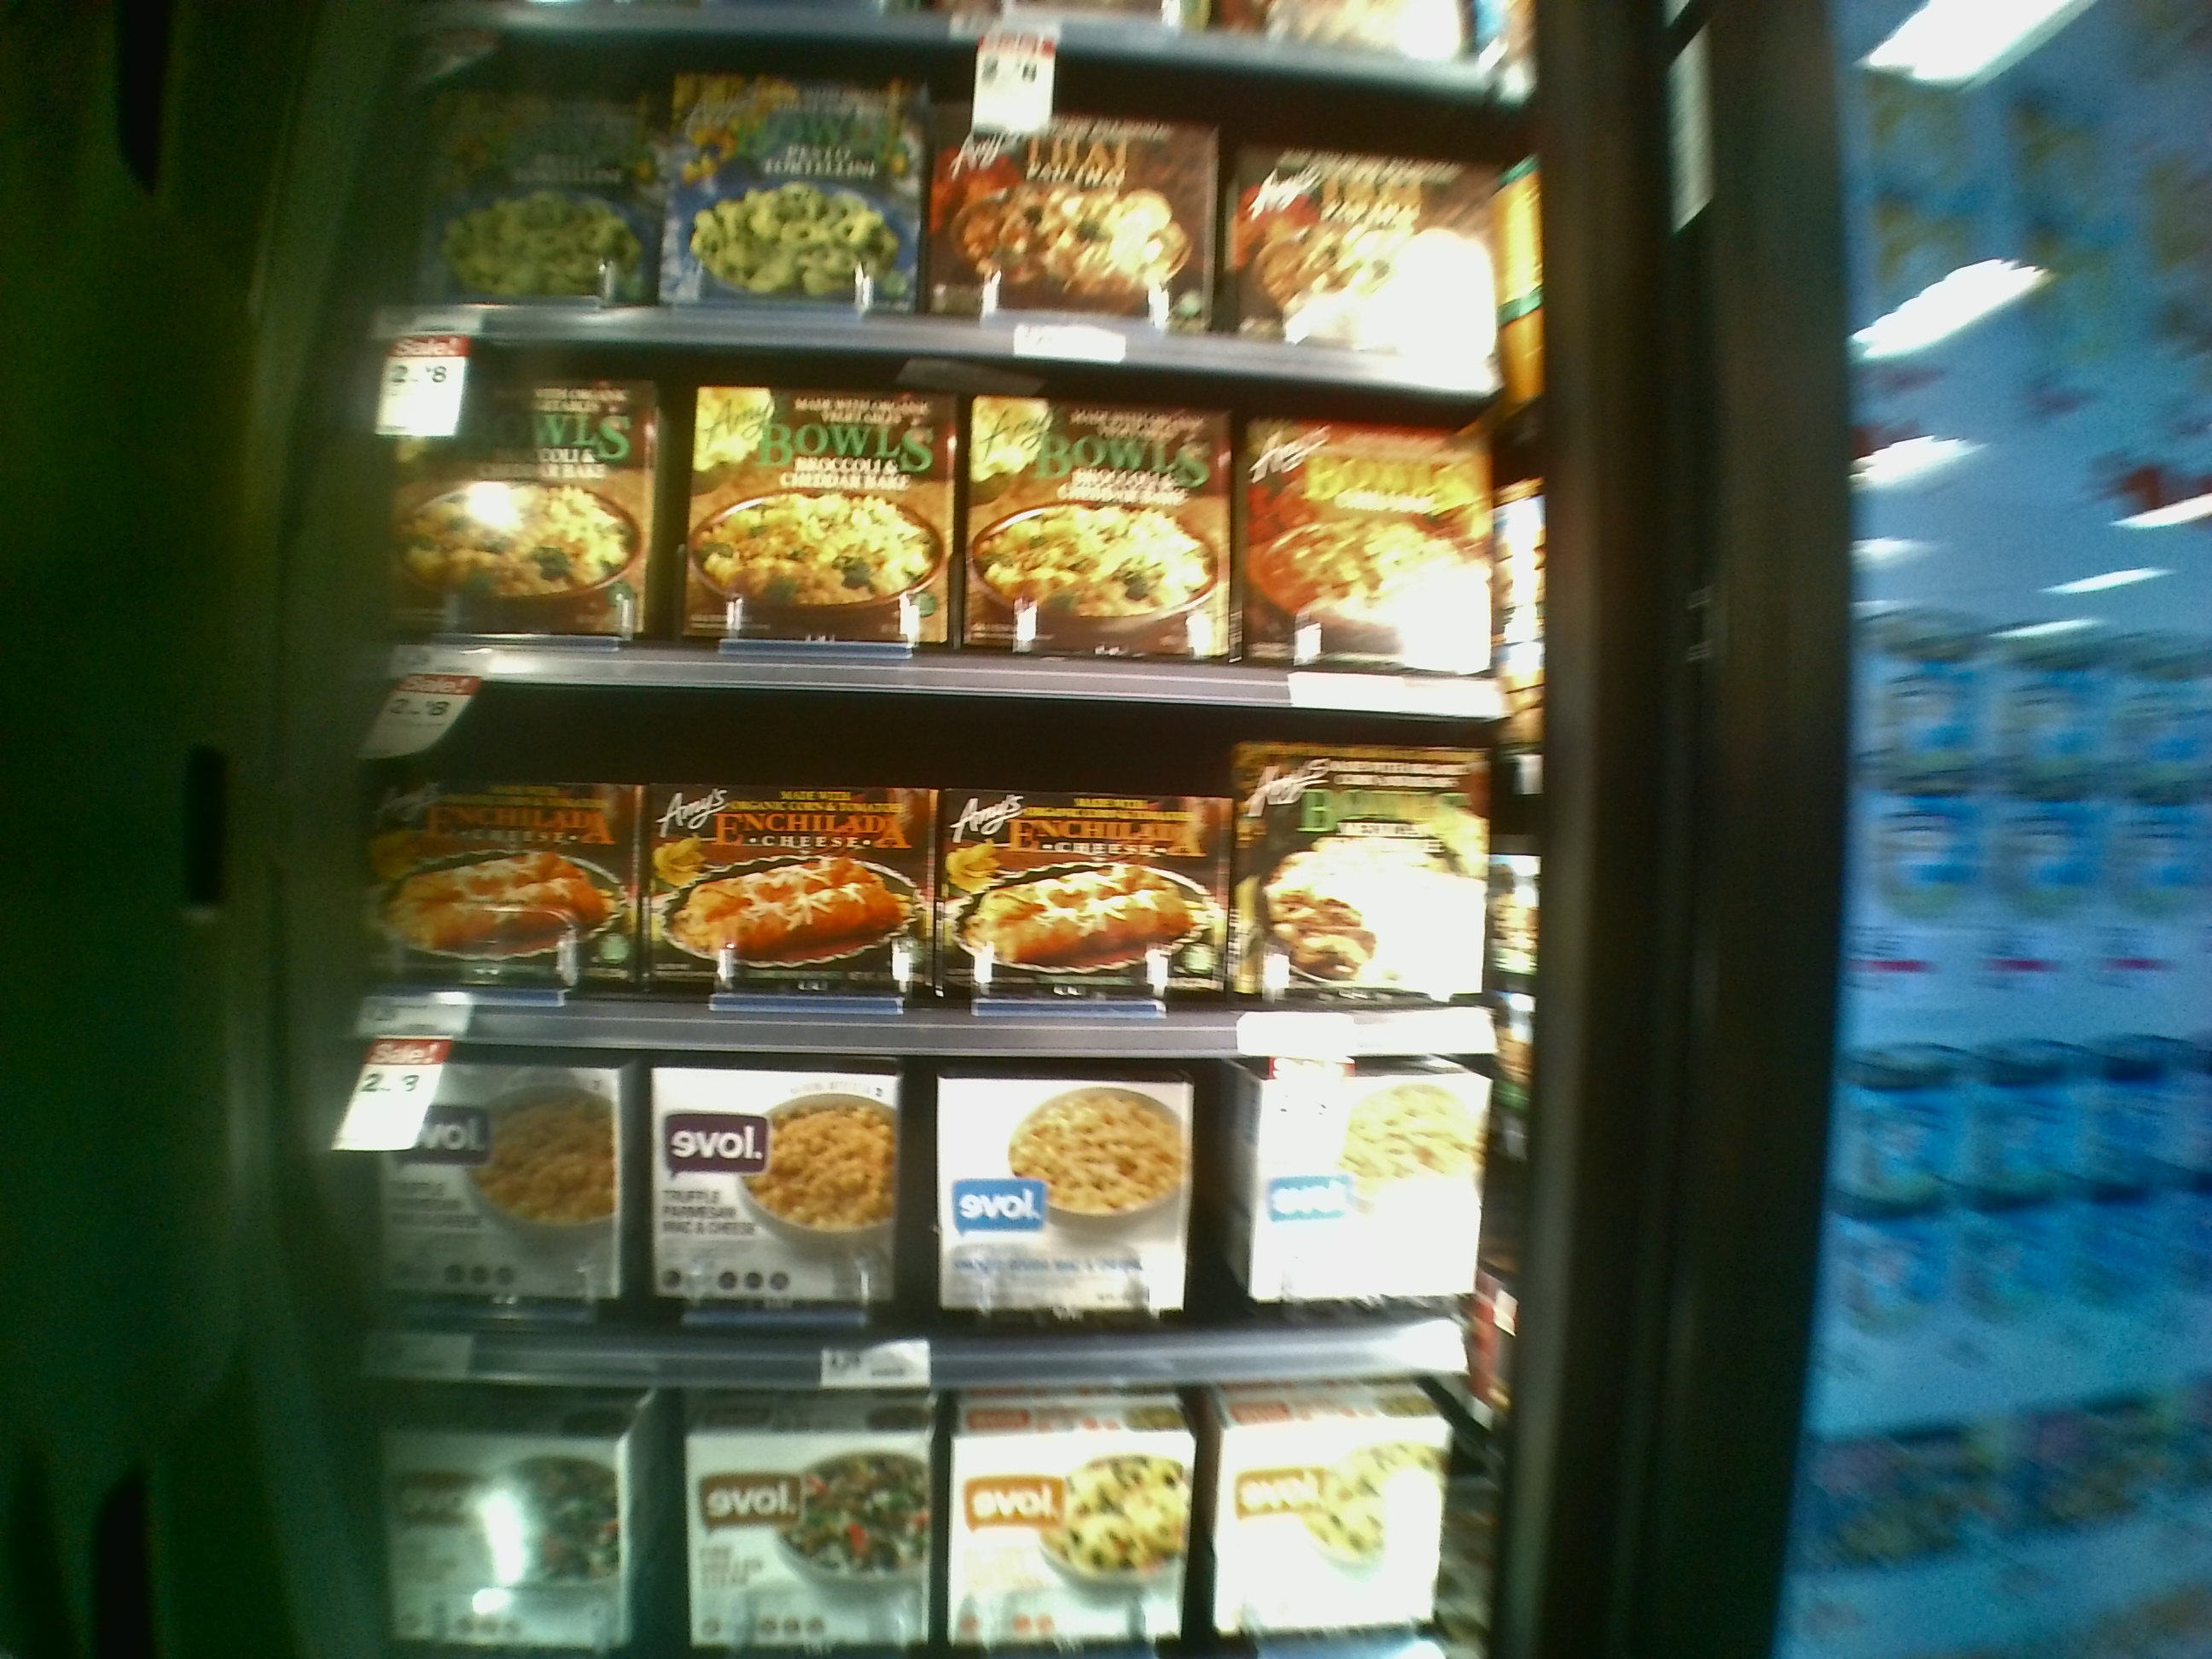shelf: (366, 676, 1526, 1053), (366, 1051, 1486, 1401), (371, 375, 1529, 711), (397, 52, 1522, 378)
